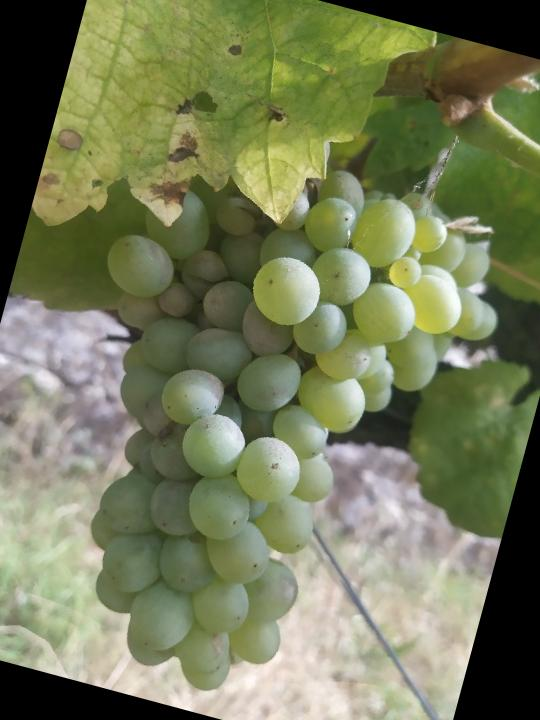grape: (3, 116, 529, 720)
